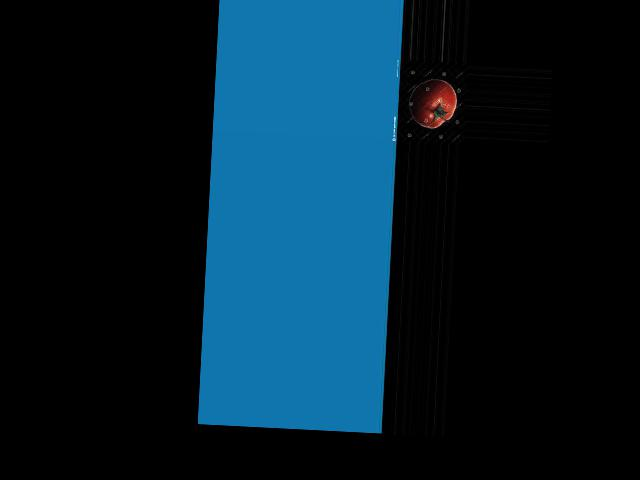tomato: (408, 77, 457, 129)
